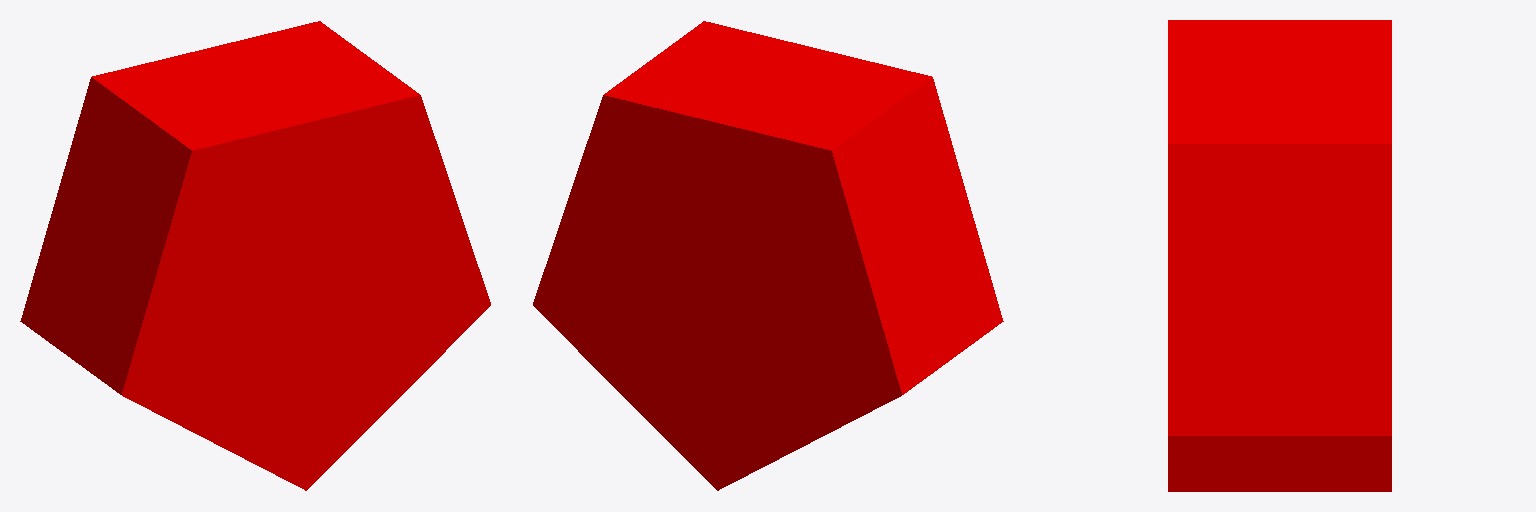
The robot description file, URDF, robot "globe":
<?xml version="1.0"?>
<robot name="globe">
  <link name ="rb1_marker">
    <visual>
      <origin xyz='0 0 0'/>
      <geometry>
        <mesh filename="red_pentagon.obj"  scale="1 1 1" />
      </geometry>
			<material name="red">
        <color rgba="1 0 0 1"/>
  		</material>
    </visual>
    <collision>
      <origin xyz='0 0 0'/>
      <geometry>
        <mesh filename="red_pentagon.obj"  scale="1 1 1" />
      </geometry>
    </collision>
  </link>
</robot>

--- Facts derived from the render (not from the file) ---
3 views of the same robot in one strip: view 1: azimuth 30°, elevation 25°; view 2: azimuth 150°, elevation 25°; view 3: azimuth 270°, elevation 25° (orthographic).
Model globe with 1 links and 0 joints (none), rooted at rb1_marker, posed all joints at 0.
Visible links, largest first — view 1: rb1_marker; view 2: rb1_marker; view 3: rb1_marker.
Boxes of the visible links, x1,y1,x2,y2 form: rb1_marker: (20,21,490,490); rb1_marker: (533,21,1003,490); rb1_marker: (1168,20,1391,491).
Size in the robot's own frame: 0.1935 by 0.0916 by 0.184 metres.
Meshes: 1 distinct files referenced, 1 mesh visuals loaded (1 OBJ).